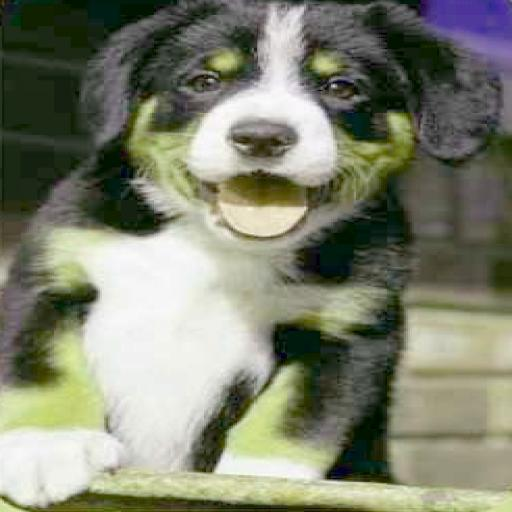dog_face: (90, 0, 476, 225)
